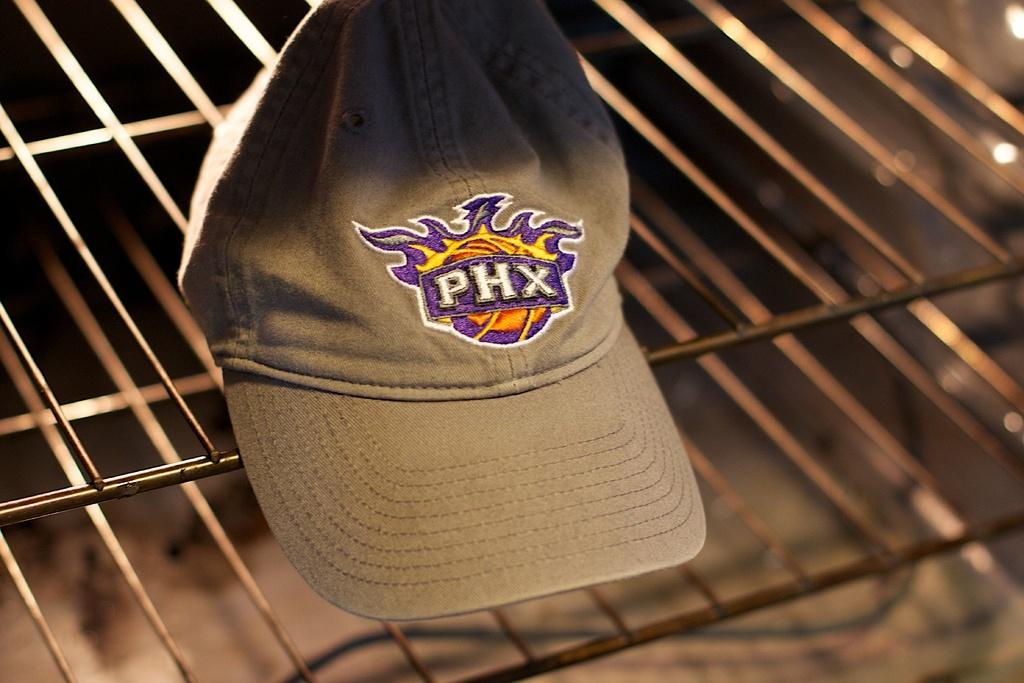Hat: (177, 0, 710, 625)
